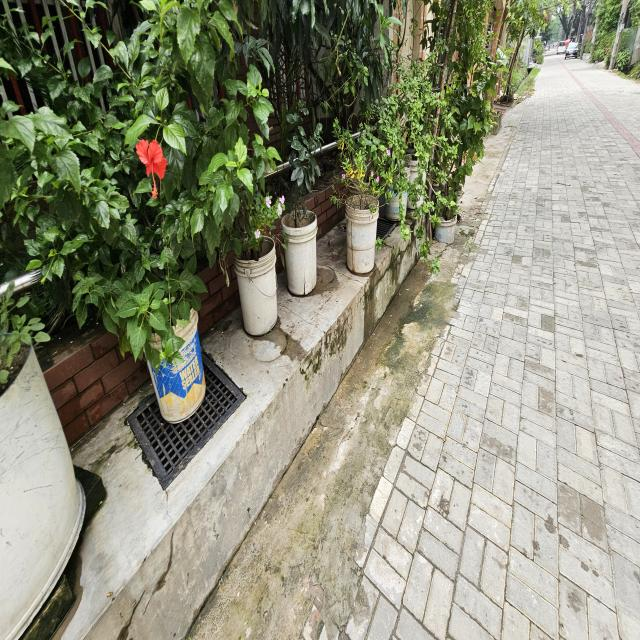artificial_container: (136, 307, 208, 426), (232, 234, 280, 338), (281, 207, 318, 299), (344, 186, 379, 280), (382, 156, 410, 222), (432, 212, 459, 245)
